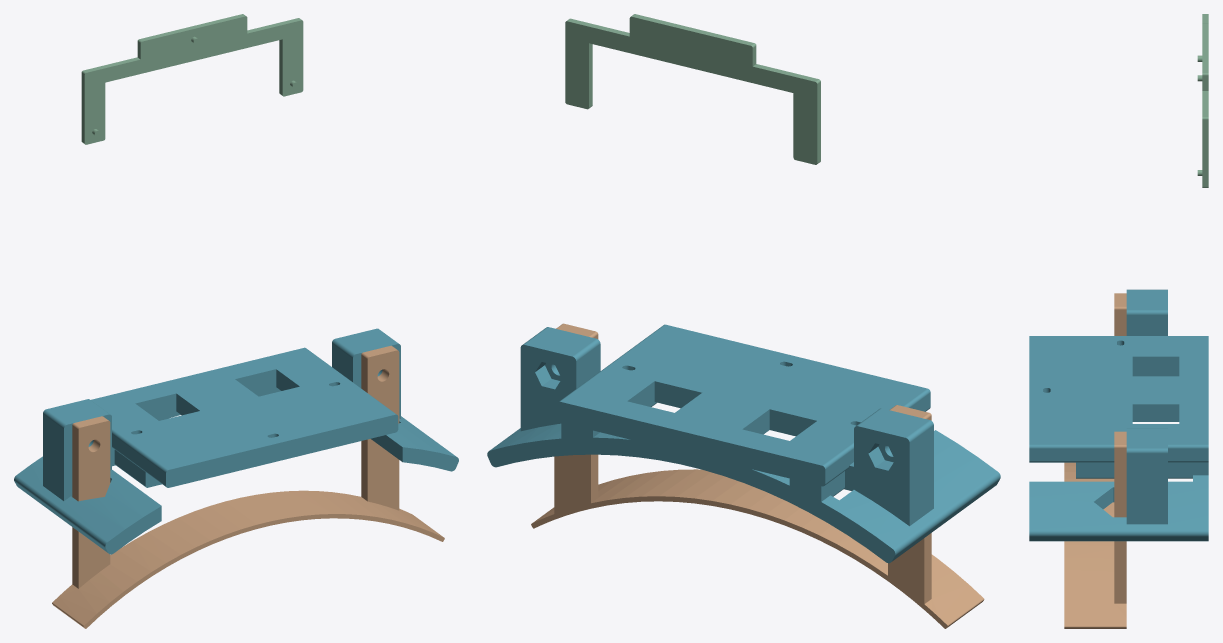
File: R09_ASSIEME_PLASTICA.glb
3 views of the same model, side by side, from view 1: azimuth 30°, elevation 25°; view 2: azimuth 150°, elevation 25°; view 3: azimuth 270°, elevation 25° (orthographic). The views are drawn at different scales.
Visible parts, largest first — view 1: base_appoggi, ponte_terminale, dima_interasse; view 2: base_appoggi, ponte_terminale, dima_interasse; view 3: base_appoggi, ponte_terminale, dima_interasse.
Part boxes in pixels (x1,y1,x2,y2): base_appoggi: (14, 328, 458, 554); ponte_terminale: (52, 345, 444, 628); dima_interasse: (81, 14, 303, 144); base_appoggi: (487, 324, 1000, 563); ponte_terminale: (531, 323, 984, 628); dima_interasse: (565, 14, 820, 164); base_appoggi: (1029, 289, 1208, 541); ponte_terminale: (1064, 293, 1126, 628); dima_interasse: (1197, 14, 1208, 187).
Size of the model in its own units: 0.105 by 0.1403 by 0.046.
